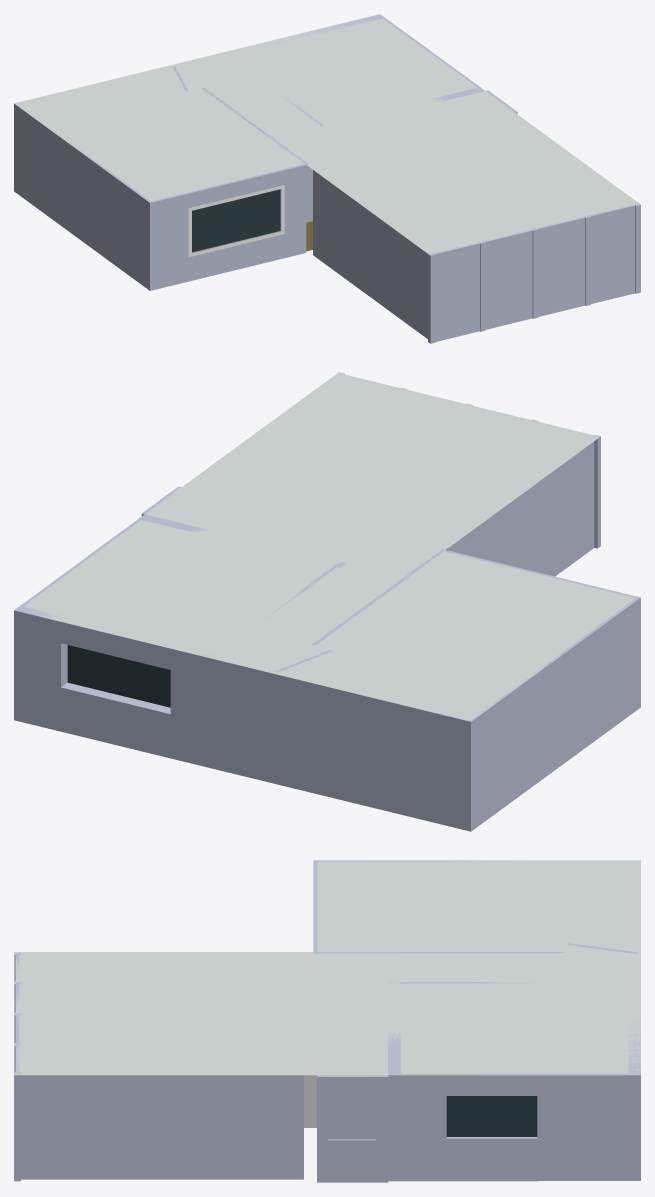
The model's file is house.glb.
The picture shows the model from 3 angles, top to bottom: view 1: azimuth 30°, elevation 25°; view 2: azimuth 150°, elevation 25°; view 3: azimuth 270°, elevation 25°; orthographic projection. The views are drawn at different scales.
Visible parts, largest first — view 1: Plane.003, Plane.001, Wand1, Fenster, Wand, Plane.007, Wand.001, Plane.008; view 2: Plane.003, Wand1, Plane.001, Wand.001, Wand, Plane.011, Fenster; view 3: Plane.003, Plane.001, Wand, Wand.001, Plane.016, Plane.012, Fenster, Wand1, Plane.002, Cube.006.
Part boxes in pixels (x1,y1,x2,y2): Plane.003: [14, 14, 514, 201]; Plane.001: [307, 112, 638, 254]; Wand1: [14, 90, 323, 290]; Fenster: [428, 202, 640, 343]; Wand: [313, 170, 427, 338]; Plane.007: [192, 189, 280, 252]; Wand.001: [255, 14, 484, 222]; Plane.008: [188, 185, 284, 257]; Plane.003: [22, 487, 635, 721]; Wand1: [208, 549, 640, 831]; Plane.001: [182, 373, 599, 550]; Wand.001: [14, 514, 346, 767]; Wand: [446, 441, 594, 576]; Plane.011: [67, 645, 170, 707]; Fenster: [338, 372, 600, 548]; Plane.003: [317, 860, 640, 1075]; Plane.001: [15, 952, 316, 1075]; Wand: [21, 1075, 303, 1179]; Wand.001: [388, 981, 640, 1181]; Plane.016: [317, 1075, 388, 1182]; Plane.012: [446, 1096, 537, 1136]; Fenster: [14, 952, 20, 1181]; Wand1: [313, 860, 548, 983]; Plane.002: [304, 1075, 316, 1127]; Cube.006: [400, 943, 636, 953].
Bounding box in the file's own units: 14.4 × 3.29 × 17.61.
